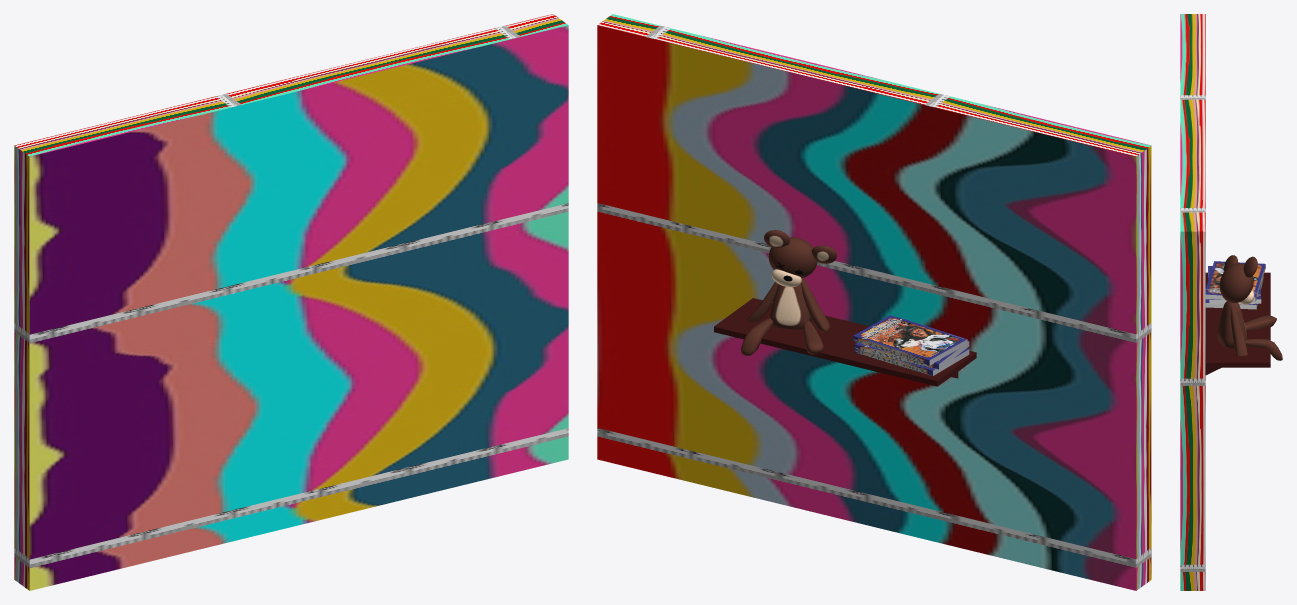
The model's file is obj_vintage_toy_e99ad8.glb.
3 renders of one model, left to right at view 1: azimuth 30°, elevation 25°; view 2: azimuth 150°, elevation 25°; view 3: azimuth 270°, elevation 25°, orthographic. The views are drawn at different scales.
Visible parts, largest first — view 1: obj_vintage_toy_e99ad8; view 2: obj_vintage_toy_e99ad8; view 3: obj_vintage_toy_e99ad8.
Boxes of the visible parts, x1,y1,x2,y2 form: obj_vintage_toy_e99ad8: (14,14,568,590); obj_vintage_toy_e99ad8: (597,14,1151,590); obj_vintage_toy_e99ad8: (1180,14,1282,590).
Bounding box in the file's own units: 0.3 × 0.2309 × 0.0596.
5 materials, 4 textured.
